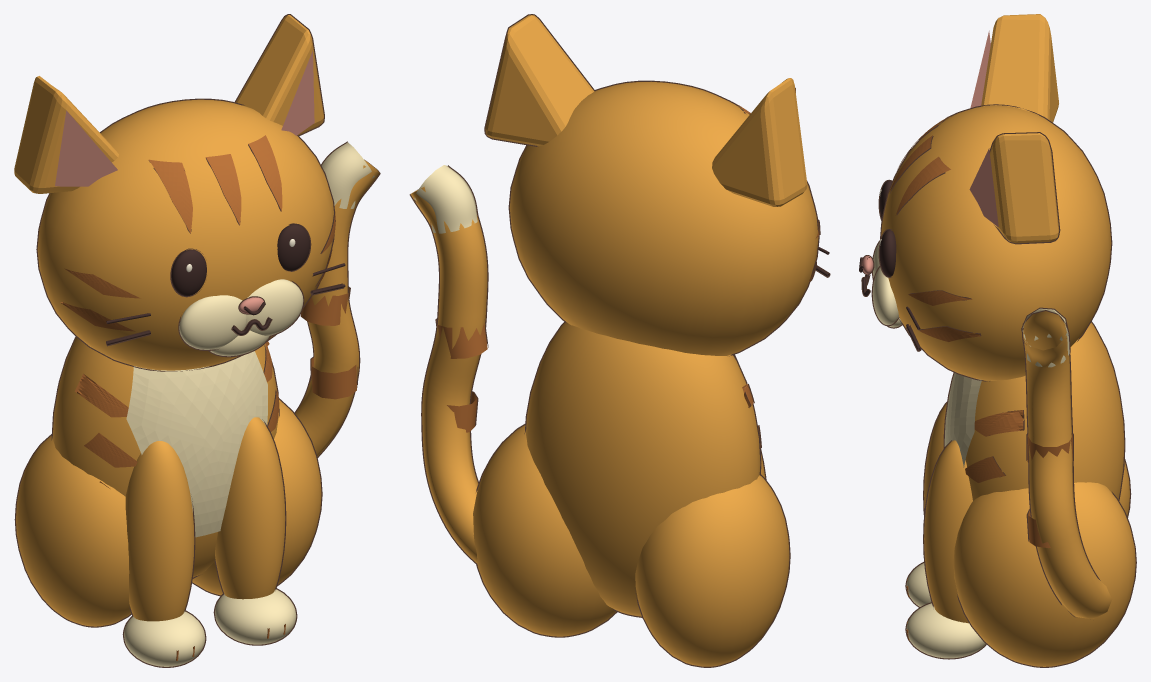
The model's file is prop_50025.glb.
3 views of the same model, side by side, from view 1: azimuth 30°, elevation 25°; view 2: azimuth 150°, elevation 25°; view 3: azimuth 270°, elevation 25° (orthographic). The views are drawn at different scales.
Visible parts, largest first — view 1: Surface_orange.002, Surface_cream.002, Surface_stripe.002, Surface_ink.006, Surface_pink.002, Surface_eye.002; view 2: Surface_orange.002, Surface_ink.006, Surface_cream.002, Surface_stripe.002; view 3: Surface_orange.002, Surface_cream.002, Surface_ink.006, Surface_stripe.002, Surface_pink.002, Surface_eye.002.
Boxes of the visible parts, <box> form: Surface_orange.002: <box>14,15,379,626</box>; Surface_cream.002: <box>124,142,374,666</box>; Surface_stripe.002: <box>60,135,356,660</box>; Surface_ink.006: <box>14,14,380,667</box>; Surface_pink.002: <box>55,50,314,313</box>; Surface_eye.002: <box>106,224,345,345</box>; Surface_orange.002: <box>410,15,818,666</box>; Surface_ink.006: <box>409,14,830,667</box>; Surface_cream.002: <box>414,165,477,233</box>; Surface_stripe.002: <box>436,104,819,448</box>; Surface_orange.002: <box>881,14,1135,666</box>; Surface_cream.002: <box>872,242,1069,658</box>; Surface_ink.006: <box>861,104,1136,667</box>; Surface_stripe.002: <box>889,117,1072,640</box>; Surface_pink.002: <box>862,30,998,274</box>; Surface_eye.002: <box>859,180,920,350</box>.
Bounding box in the file's own units: 0.5515 × 0.8329 × 0.3747.
